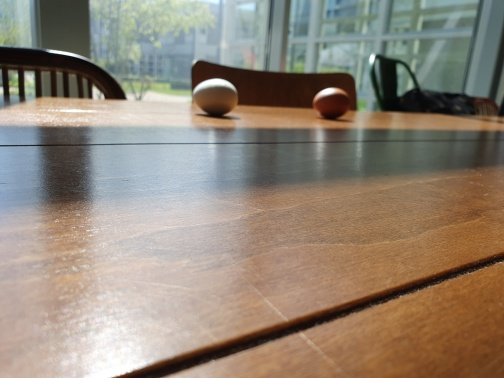egg: (191, 77, 238, 116), (311, 87, 351, 120)
